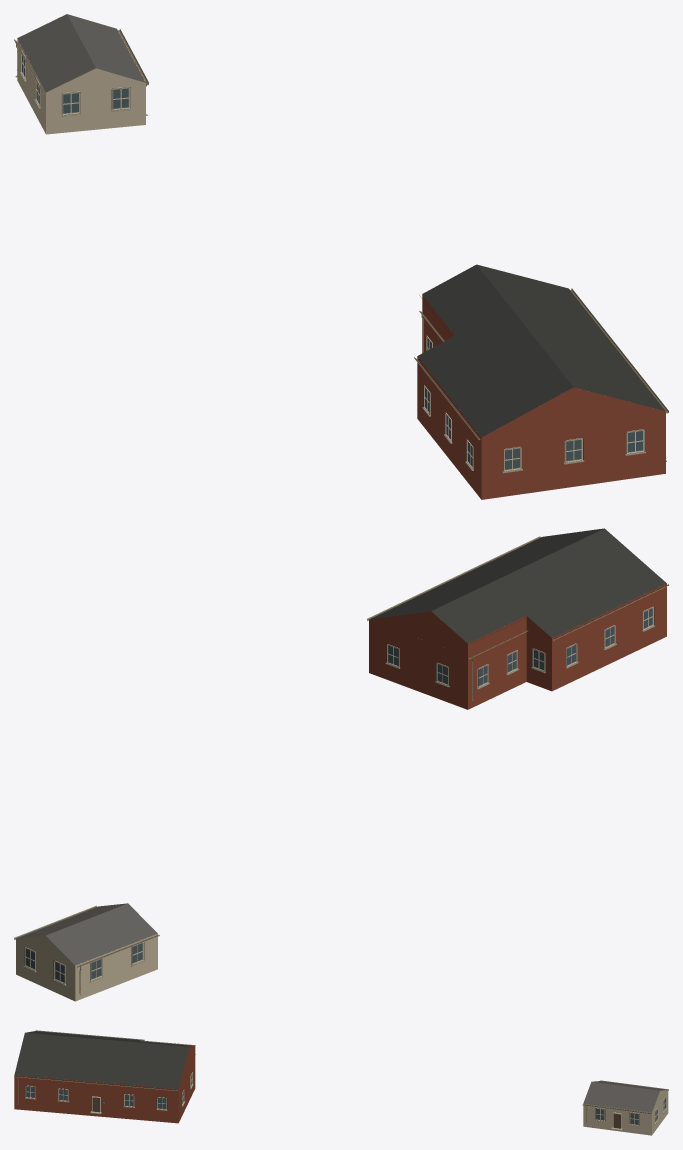
The picture shows the model from 3 angles, top to bottom: view 1: azimuth 30°, elevation 25°; view 2: azimuth 150°, elevation 25°; view 3: azimuth 270°, elevation 25°; orthographic projection. The views are drawn at different scales.
Visible parts, largest first — view 1: -2_8_607958302_1, -2_8_607958703_13; view 2: -2_8_607958302_1, -2_8_607958703_13; view 3: -2_8_607958302_1, -2_8_607958703_13.
Boxes of the visible parts, x1,y1,x2,y2 form: -2_8_607958302_1: (14,14,668,473); -2_8_607958703_13: (417,294,665,499); -2_8_607958302_1: (14,528,668,1001); -2_8_607958703_13: (369,583,666,709); -2_8_607958302_1: (14,1030,668,1135); -2_8_607958703_13: (14,1046,195,1123).
Size of the model in its own units: 19.44 by 10.91 by 90.15.
